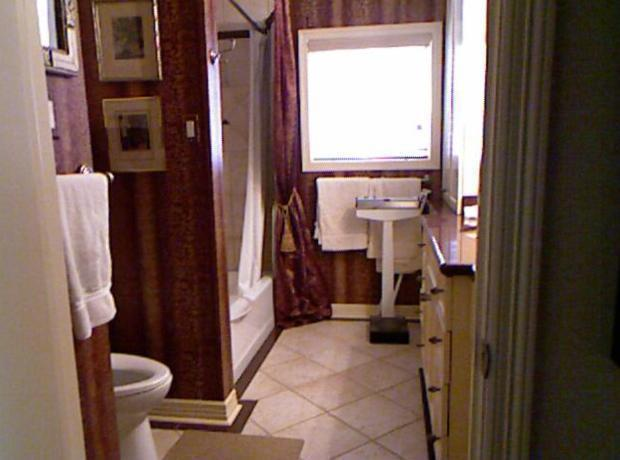Ducha: (110, 7, 285, 402)
Otro Obstaculo: (352, 192, 426, 343)
Sanitario: (28, 291, 177, 458)
